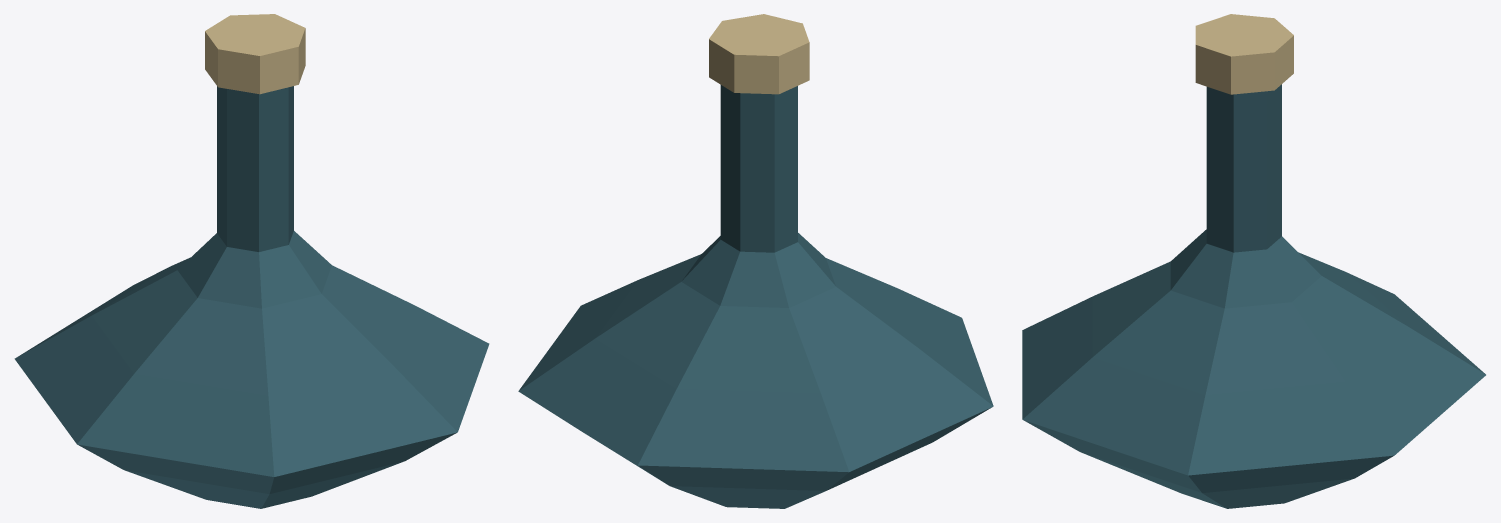
The model's file is Potion_2.fbx.
3 views of the same model, side by side, from view 1: azimuth 30°, elevation 25°; view 2: azimuth 150°, elevation 25°; view 3: azimuth 270°, elevation 25° (orthographic).
Visible parts, largest first — view 1: Potion_2; view 2: Potion_2; view 3: Potion_2.
Boxes of the visible parts, x1,y1,x2,y2 form: Potion_2: (14, 14, 489, 508); Potion_2: (518, 14, 993, 508); Potion_2: (1022, 14, 1485, 508).
Bounding box in the file's own units: 18.37 × 18.99 × 17.91.
